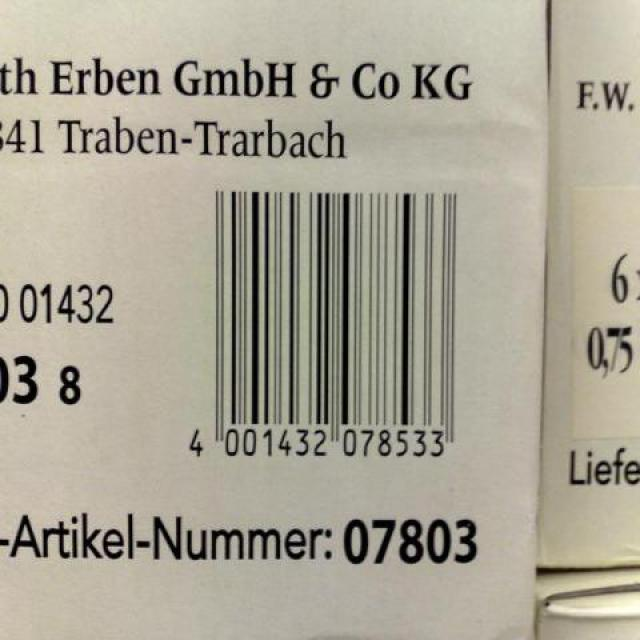Barcode: (173, 171, 482, 480)
